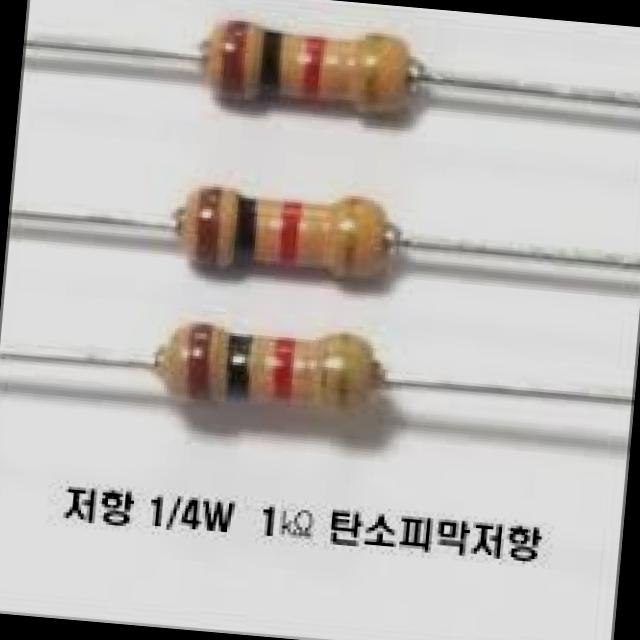Resistor: (151, 319, 390, 416), (173, 183, 405, 278), (198, 17, 419, 116)
black: (265, 27, 288, 111), (235, 196, 258, 279), (229, 332, 252, 403)
brown: (218, 21, 252, 115), (183, 322, 215, 411), (201, 181, 223, 276)
gold: (338, 197, 362, 297), (327, 331, 350, 426), (360, 33, 382, 122)
red: (299, 34, 324, 120), (282, 199, 305, 274), (275, 336, 297, 407)
